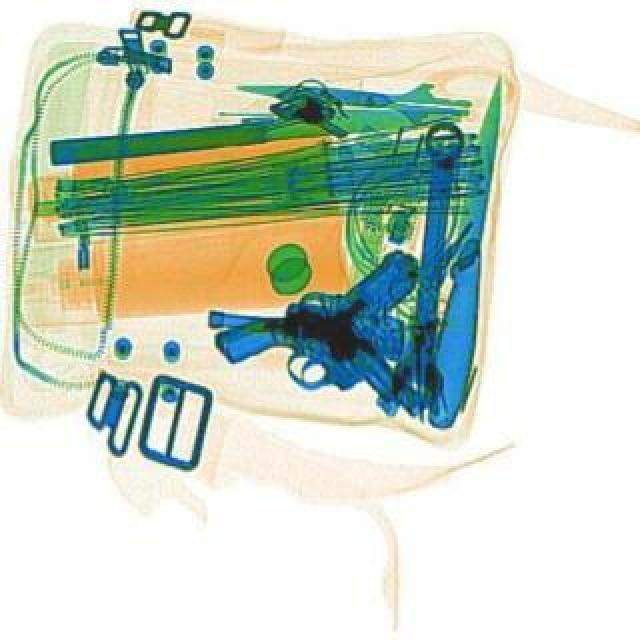gun: (204, 270, 430, 478), (202, 230, 418, 366)
knife: (422, 76, 524, 432), (46, 104, 458, 170), (232, 70, 470, 138)
scissors: (386, 124, 474, 412)
